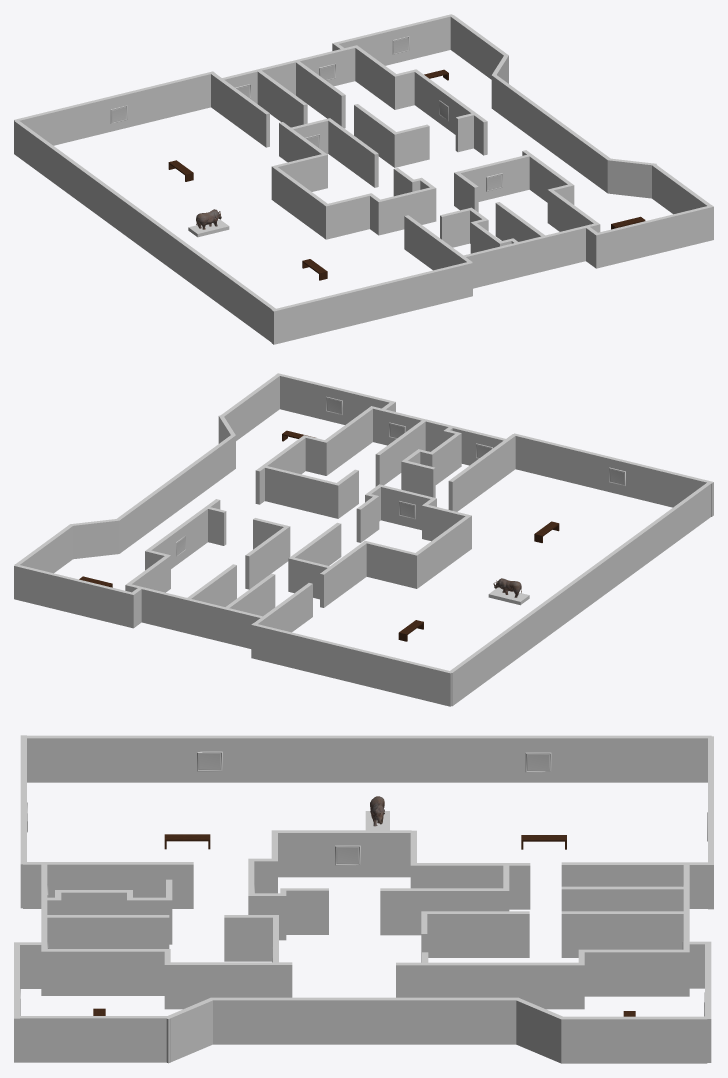
The model's file is museum.dae.
The picture shows the model from 3 angles, top to bottom: view 1: azimuth 30°, elevation 25°; view 2: azimuth 150°, elevation 25°; view 3: azimuth 270°, elevation 25°; orthographic projection. The views are drawn at different scales.
Visible parts, largest first — view 1: Cube.032, Cube.014, Cube.017, Cube.020, Cube.004, Cube.001, Cube.013, Cube.012, Cube.040, Cube.044, Cube, Cube.035 (+23 smaller); view 2: Cube.032, Cube.017, Cube.014, Cube.020, Cube.013, Cube.012, Cube.004, Cube, Cube.031, Cube.001, Cube.035, Cube.021 (+24 smaller); view 3: Cube.032, Cube.020, Cube.044, Cube.039, Cube.021, Cube.035, Cube.031, Cube.023, Cube.045, Cube.042, Cube.043, Cube.024 (+24 smaller).
Part boxes in pixels (left/top/right/bottom): Cube.032: left=14, top=120, right=277, bottom=342; Cube.014: left=271, top=261, right=472, bottom=344; Cube.017: left=14, top=71, right=214, bottom=145; Cube.020: left=491, top=74, right=610, bottom=192; Cube.004: left=594, top=205, right=713, bottom=268; Cube.001: left=461, top=222, right=600, bottom=288; Cube.013: left=332, top=14, right=452, bottom=65; Cube.012: left=218, top=46, right=357, bottom=103; Cube.040: left=211, top=73, right=269, bottom=147; Cube.044: left=414, top=71, right=487, bottom=155; Cube: left=454, top=155, right=529, bottom=206; Cube.035: left=273, top=167, right=327, bottom=237; Cube.032: left=449, top=481, right=712, bottom=706; Cube.017: left=251, top=623, right=451, bottom=706; Cube.014: left=514, top=433, right=713, bottom=516; Cube.020: left=117, top=434, right=235, bottom=553; Cube.013: left=14, top=564, right=135, bottom=628; Cube.012: left=129, top=584, right=266, bottom=648; Cube.004: left=276, top=373, right=395, bottom=424; Cube: left=265, top=466, right=340, bottom=518; Cube.031: left=448, top=434, right=516, bottom=511; Cube.001: left=369, top=406, right=506, bottom=465; Cube.035: left=416, top=516, right=469, bottom=587; Cube.021: left=219, top=375, right=279, bottom=443; Cube.032: left=21, top=735, right=711, bottom=782; Cube.020: left=210, top=997, right=518, bottom=1044; Cube.044: left=396, top=962, right=578, bottom=1009; Cube.039: left=561, top=1016, right=707, bottom=1063; Cube.021: left=19, top=1016, right=170, bottom=1062; Cube.035: left=277, top=830, right=411, bottom=877; Cube.031: left=23, top=862, right=193, bottom=908; Cube.023: left=47, top=949, right=170, bottom=995; Cube.045: left=582, top=949, right=689, bottom=996; Cube.042: left=561, top=911, right=683, bottom=957; Cube.043: left=427, top=911, right=529, bottom=957; Cube.024: left=170, top=962, right=292, bottom=1009.
Bounding box in the file's own units: 55.14 × 57.43 × 4.1.
